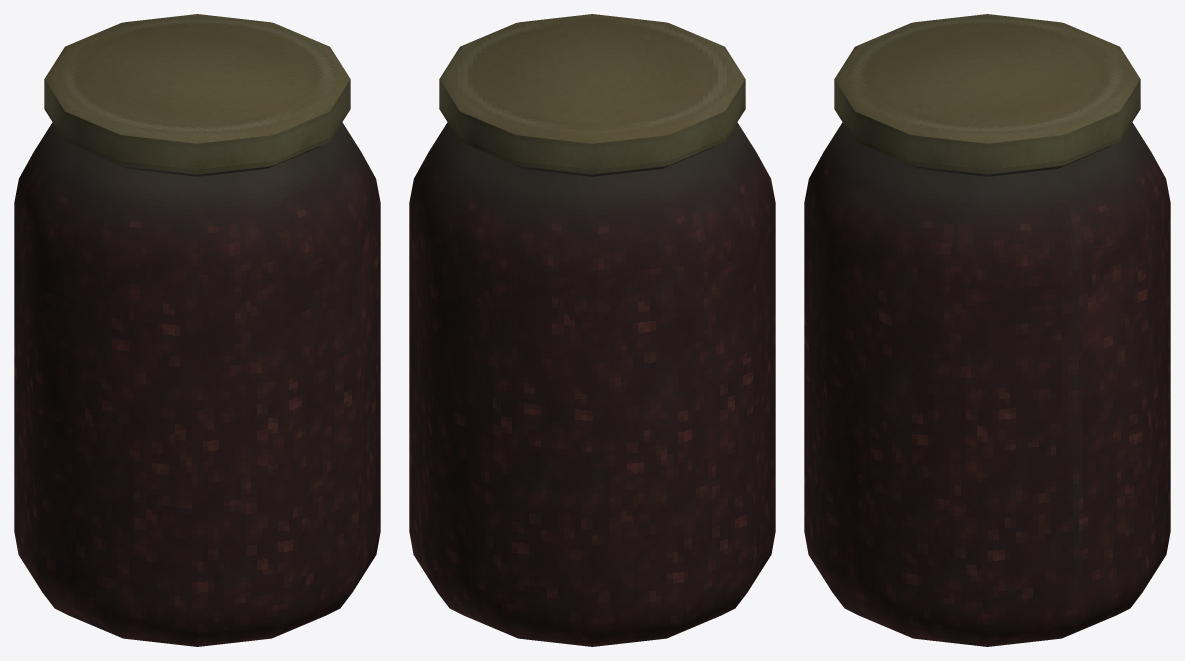
The model's file is jam_jar_mp_1_small.glb.
3 views of the same model, side by side, from view 1: azimuth 30°, elevation 25°; view 2: azimuth 150°, elevation 25°; view 3: azimuth 270°, elevation 25° (orthographic).
Parts seen in each view (by area): view 1: jam_jar_mp_1_small; view 2: jam_jar_mp_1_small; view 3: jam_jar_mp_1_small.
Part boxes in pixels (box(x1,y1,x2,y2)): jam_jar_mp_1_small: box(14, 14, 380, 646); jam_jar_mp_1_small: box(409, 14, 775, 646); jam_jar_mp_1_small: box(804, 14, 1170, 646).
Bounding box in the file's own units: 0.1294 × 0.1982 × 0.1294.
1 material, 1 textured.
